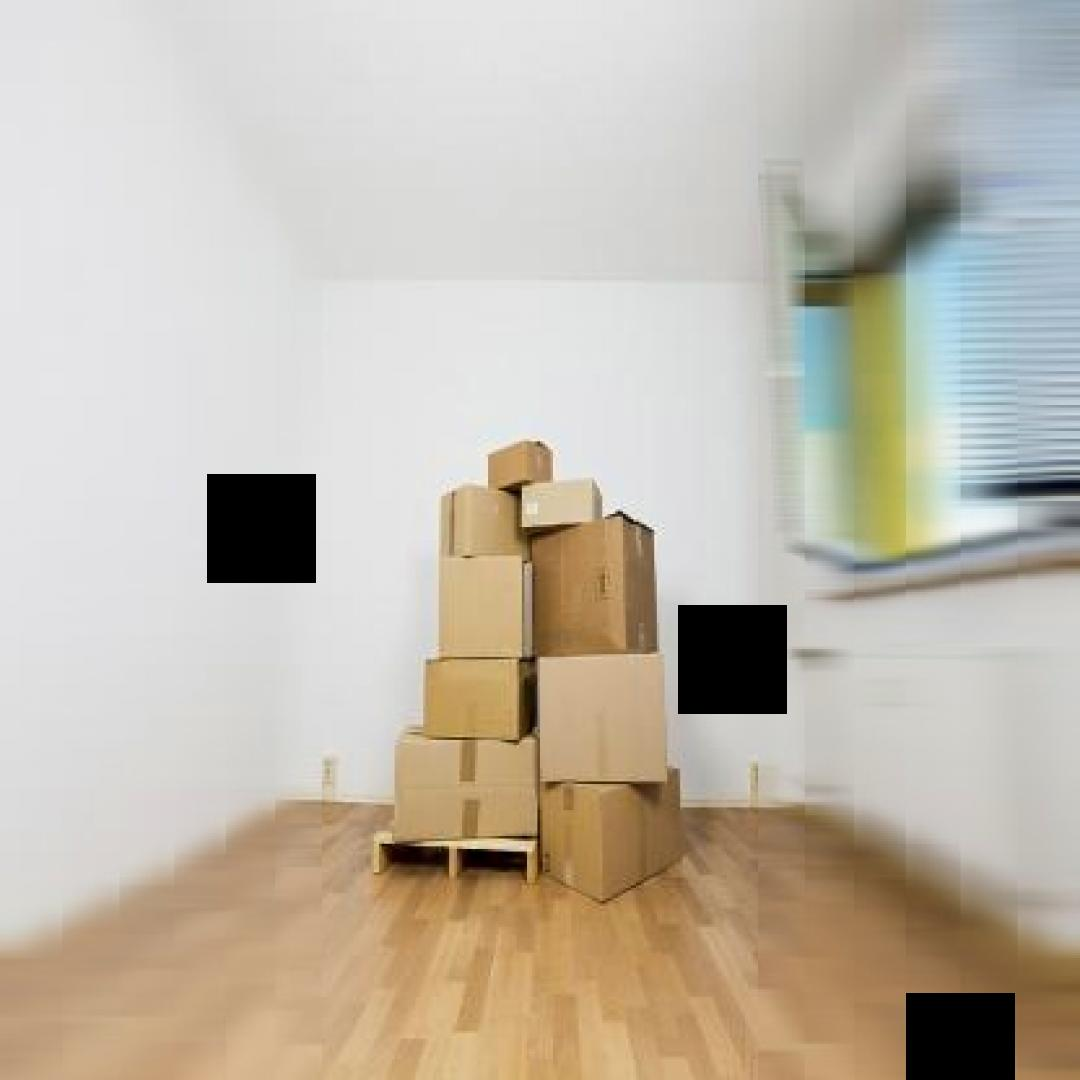package: (540, 763, 686, 912), (527, 507, 657, 660), (390, 727, 542, 849), (538, 646, 668, 774), (431, 545, 540, 657), (420, 654, 540, 740), (434, 480, 532, 569), (516, 478, 608, 527), (486, 439, 558, 493)
